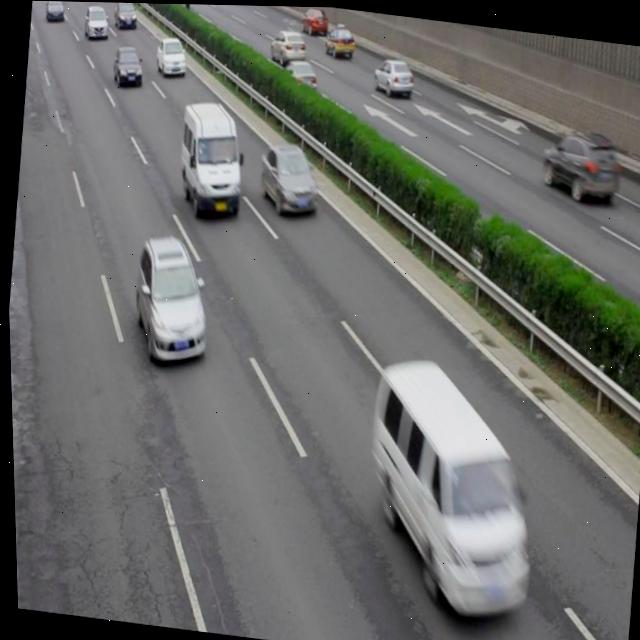car: (125, 230, 215, 366), (534, 121, 621, 203), (255, 137, 319, 217), (369, 50, 414, 99), (277, 54, 319, 98), (110, 42, 144, 91), (154, 34, 190, 79), (268, 26, 307, 66), (320, 21, 355, 58), (299, 5, 330, 38)
truck: (353, 351, 550, 616), (171, 95, 249, 223)
